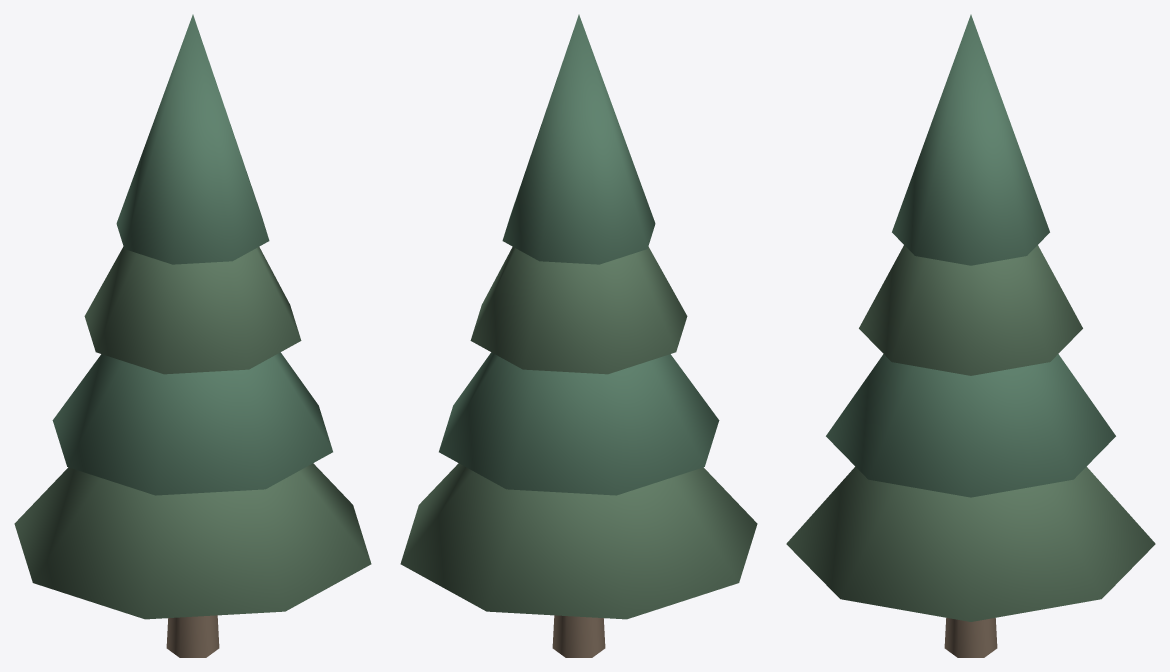
The model's file is arvore_pinheiro.glb.
3 renders of one model, left to right at view 1: azimuth 30°, elevation 25°; view 2: azimuth 150°, elevation 25°; view 3: azimuth 270°, elevation 25°, orthographic.
Visible parts, largest first — view 1: copa, tronco; view 2: copa, tronco; view 3: copa, tronco.
Boxes of the visible parts, <box> form: copa: <box>14,14,371,619</box>; tronco: <box>166,615,219,657</box>; copa: <box>400,14,757,619</box>; tronco: <box>552,615,605,657</box>; copa: <box>786,14,1155,621</box>; tronco: <box>944,618,997,657</box>.
Size of the model in its own units: 2.8 by 5.3 by 2.8.
